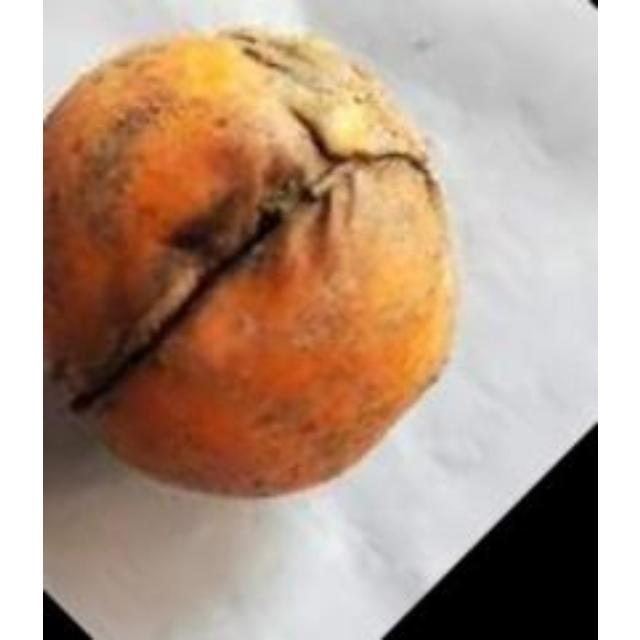damaged: (42, 27, 464, 497)
